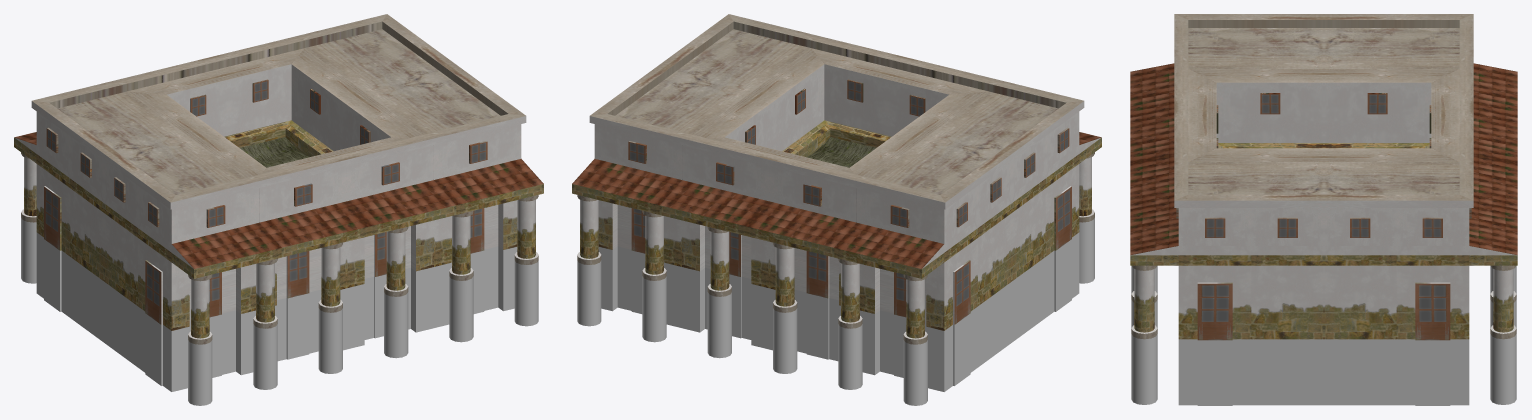
File: land_owner_house_large.obj
3 views of the same model, side by side, from view 1: azimuth 30°, elevation 25°; view 2: azimuth 150°, elevation 25°; view 3: azimuth 270°, elevation 25° (orthographic). The views are drawn at different scales.
Parts seen in each view (by area): view 1: Cube, Cube.001; view 2: Cube, Cube.001; view 3: Cube, Cube.001.
Boxes of the visible parts, x1,y1,x2,y2 form: Cube: (14,14,543,344); Cube.001: (21,217,538,405); Cube: (572,14,1101,344); Cube.001: (577,217,1094,405); Cube: (1130,14,1517,340); Cube.001: (1131,266,1516,405).
Bounding box in the file's own units: 12.24 × 6.31 × 10.74.
